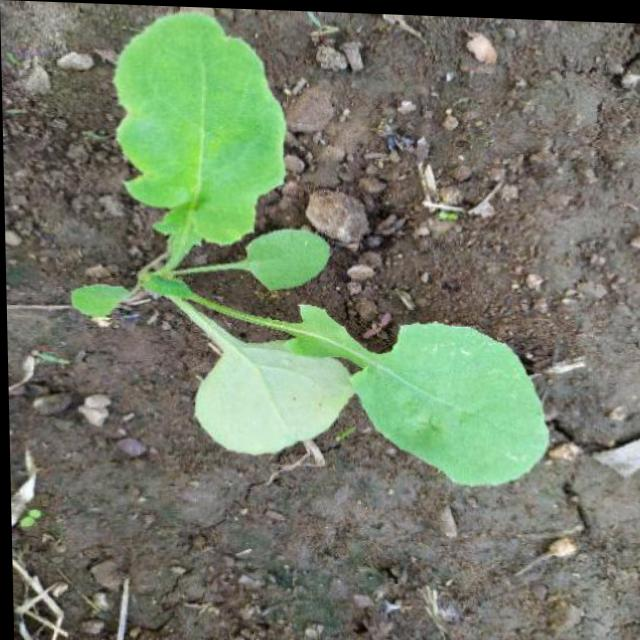weed: (42, 2, 548, 486)
